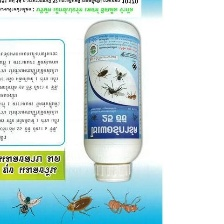insecticide: (80, 18, 145, 184)
